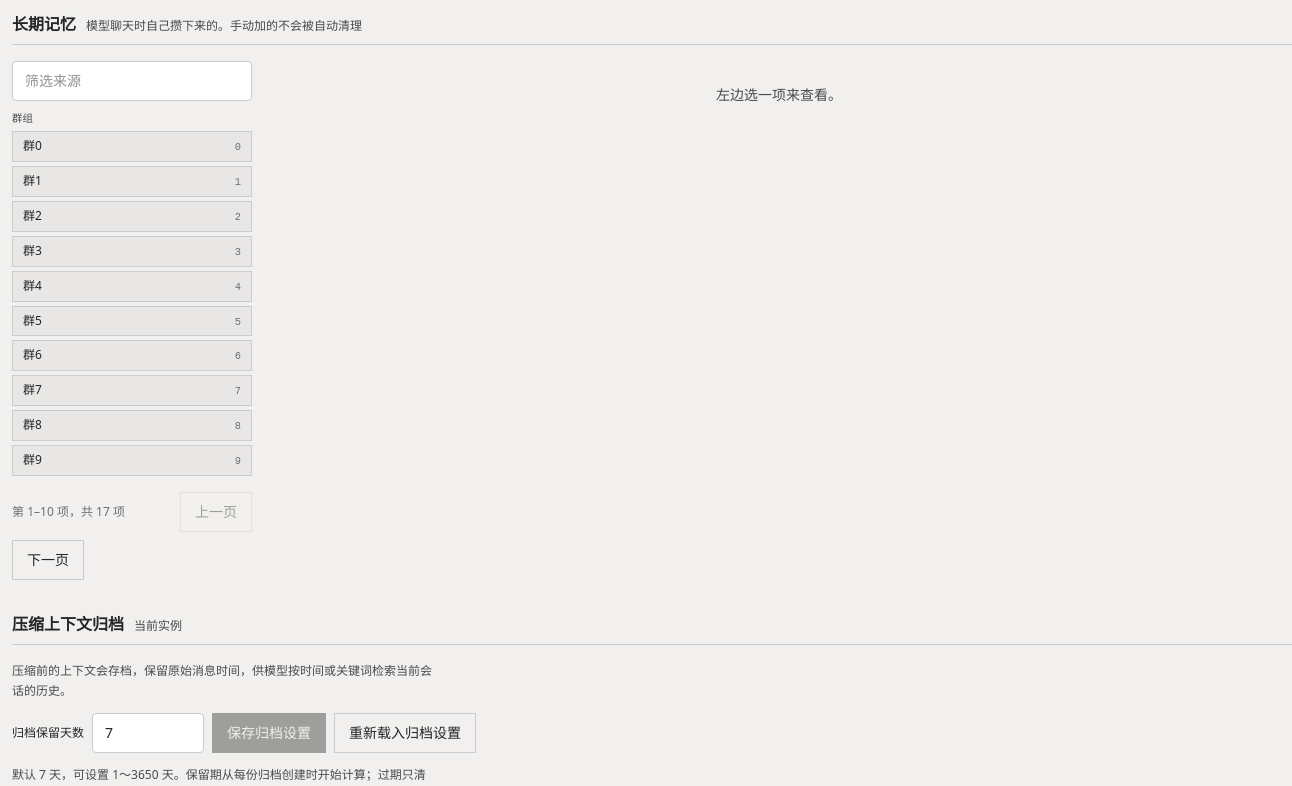
来源列表 › 组标题在每一页重新出现 —— 翻过去就不知道这一项属于哪一档了
Expected: the text "群0" is shown, top-left (23, 137), bottom-right (42, 154)
Expected: the text "群组" is shown, top-left (12, 113), bottom-right (33, 125)
Click the button "下一页" at (48, 560), box top-left (12, 540), bottom-right (84, 580)
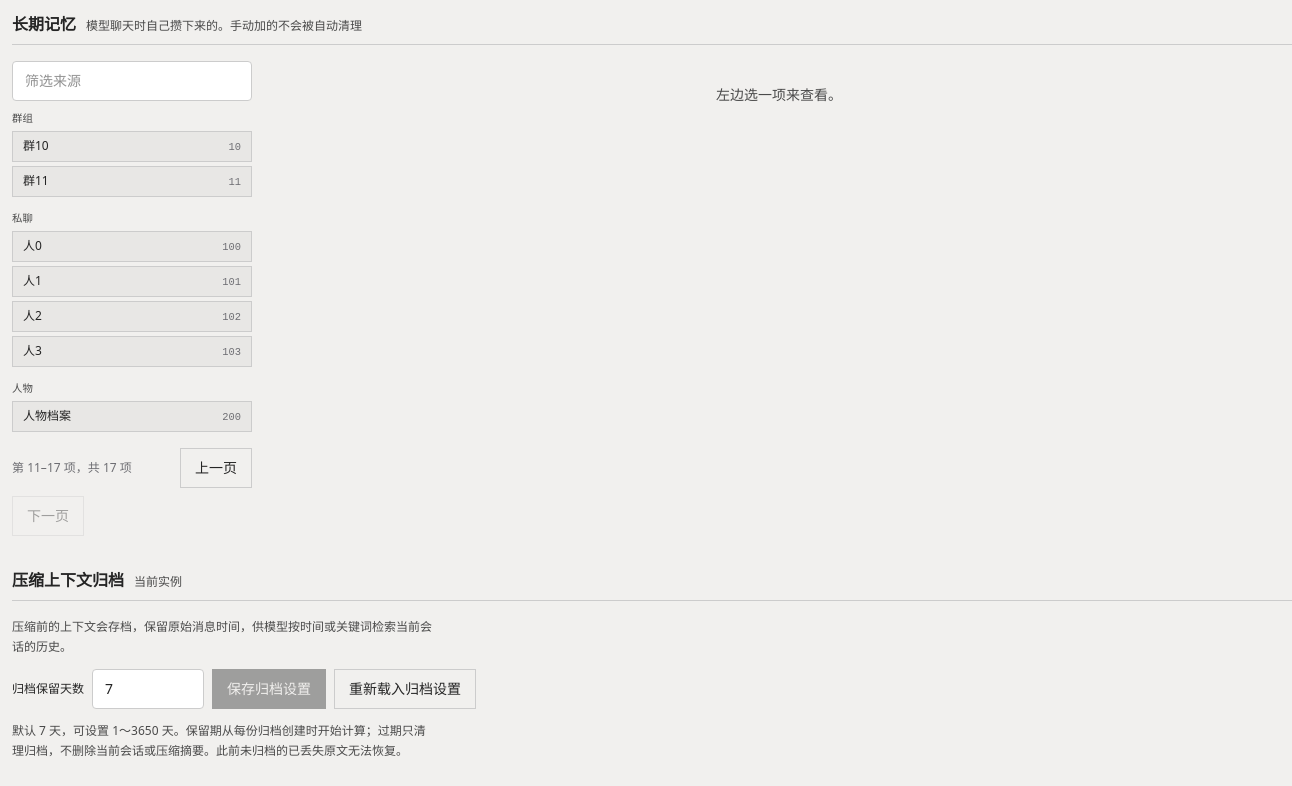
Now the text "人0" is shown, box top-left (23, 237), bottom-right (42, 254)
Now the text "私聊" is shown, box top-left (12, 213), bottom-right (33, 225)
Now the text "人物" is shown, box top-left (12, 382), bottom-right (33, 394)
